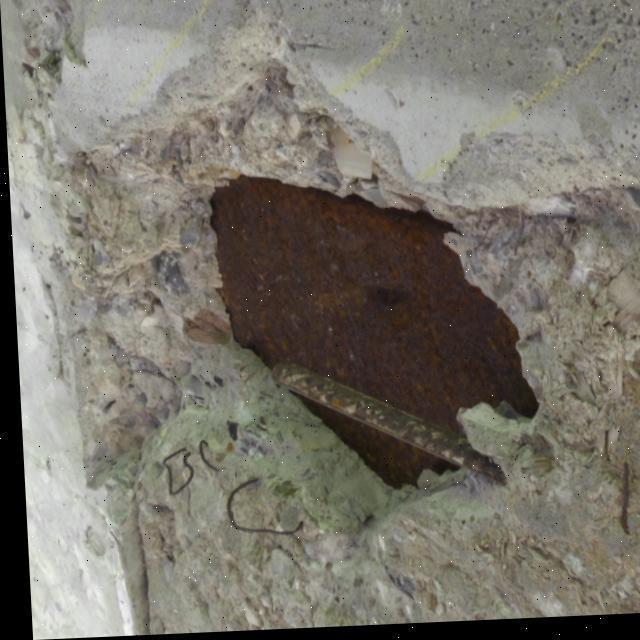D10: (194, 82, 539, 486), (210, 142, 539, 486)
